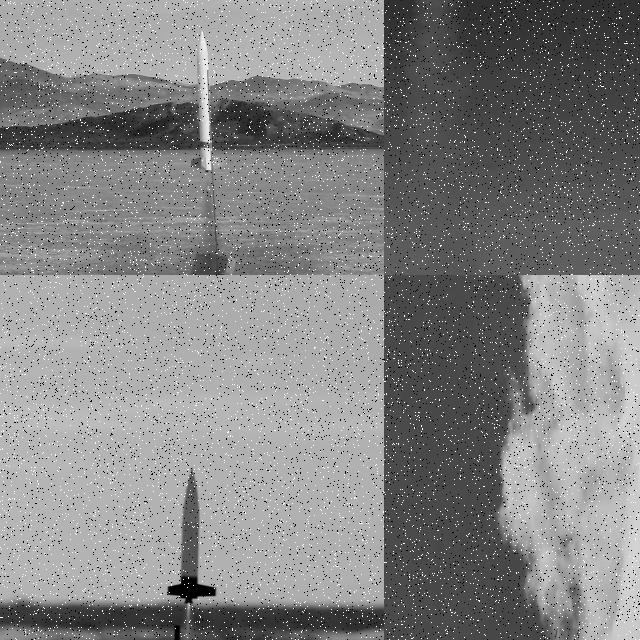Rocket: (167, 467, 217, 604), (190, 29, 228, 173), (554, 627, 557, 640)
